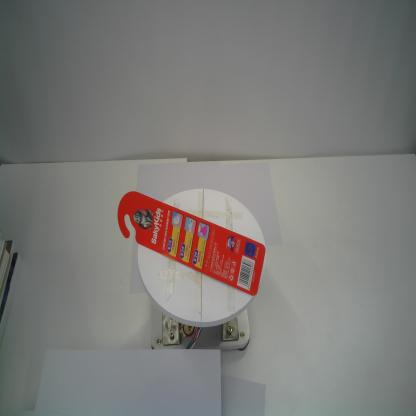Personal Hygiene: (117, 191, 266, 296)
